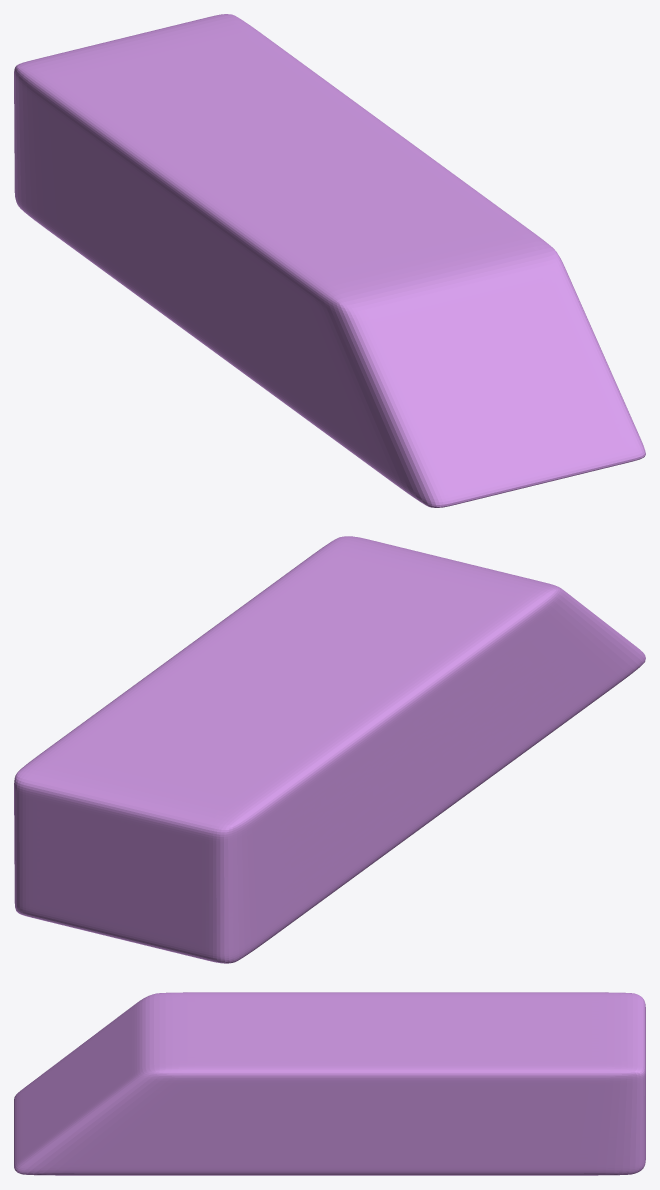
File: gomme.fbx
3 views of the same model, one above another, from view 1: azimuth 30°, elevation 25°; view 2: azimuth 150°, elevation 25°; view 3: azimuth 270°, elevation 25° (orthographic). The views are drawn at different scales.
Parts seen in each view (by area): view 1: Cube; view 2: Cube; view 3: Cube.
Part boxes in pixels (x1,y1,x2,y2): Cube: (14,14,645,507); Cube: (14,536,645,963); Cube: (14,992,645,1175).
Size of the model in its own units: 60.48 by 37.05 by 197.
